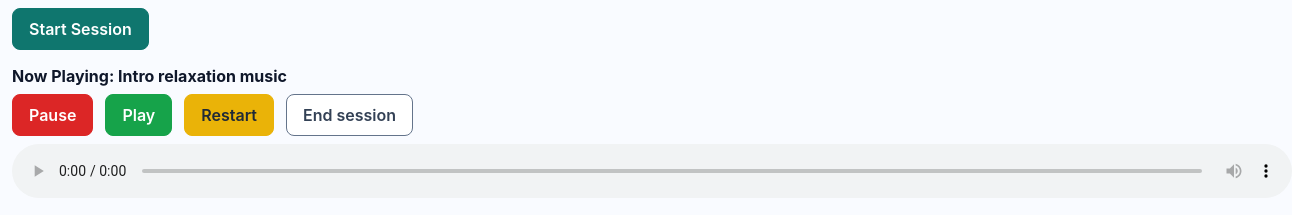
Test: SessionPlayer › End session during playback clears Now Playing
Expected: the text "Now Playing: Intro relaxation music" is shown, [12,66,287,86]
Step 1. Click the button "End session" → click(350, 115), box [286,94,413,136]
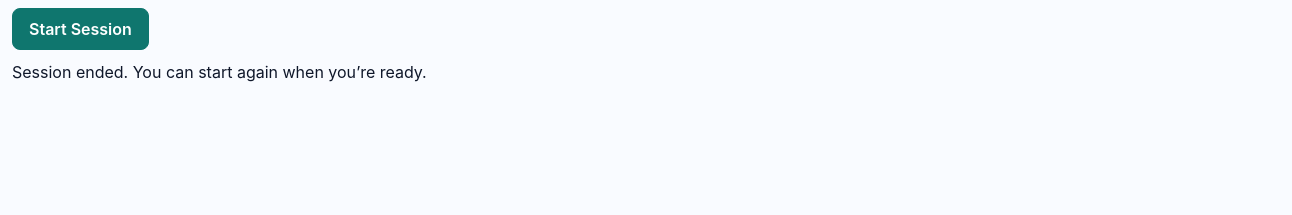
Now the text "Now Playing:" is gone
Now the text "Session ended. You can start again when you’re ready." is shown, box [12,62,427,82]
